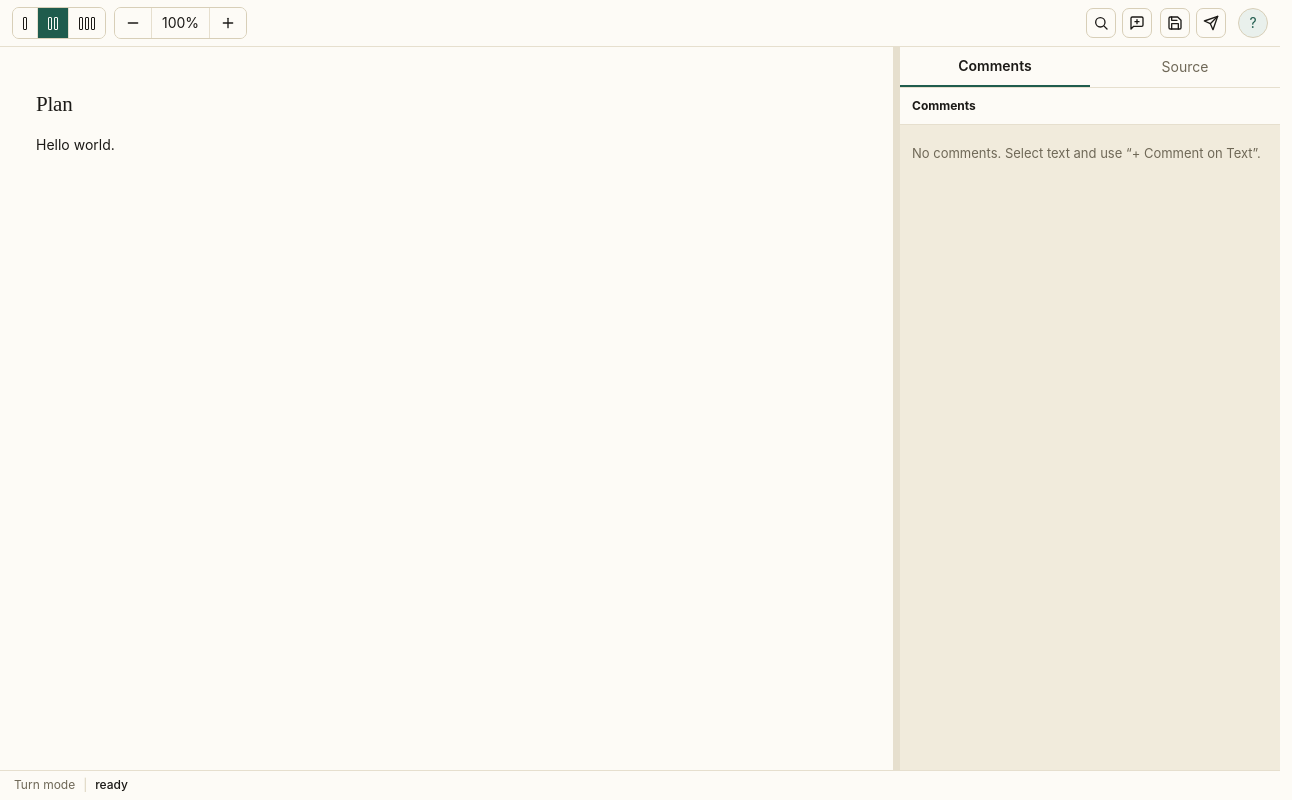
App preview context menu (item 3) › 'Comment on Doc' opens the composer and closes the menu
Right-click the element with class "ap-rendered": (54,104) [36, 92, 115, 153]
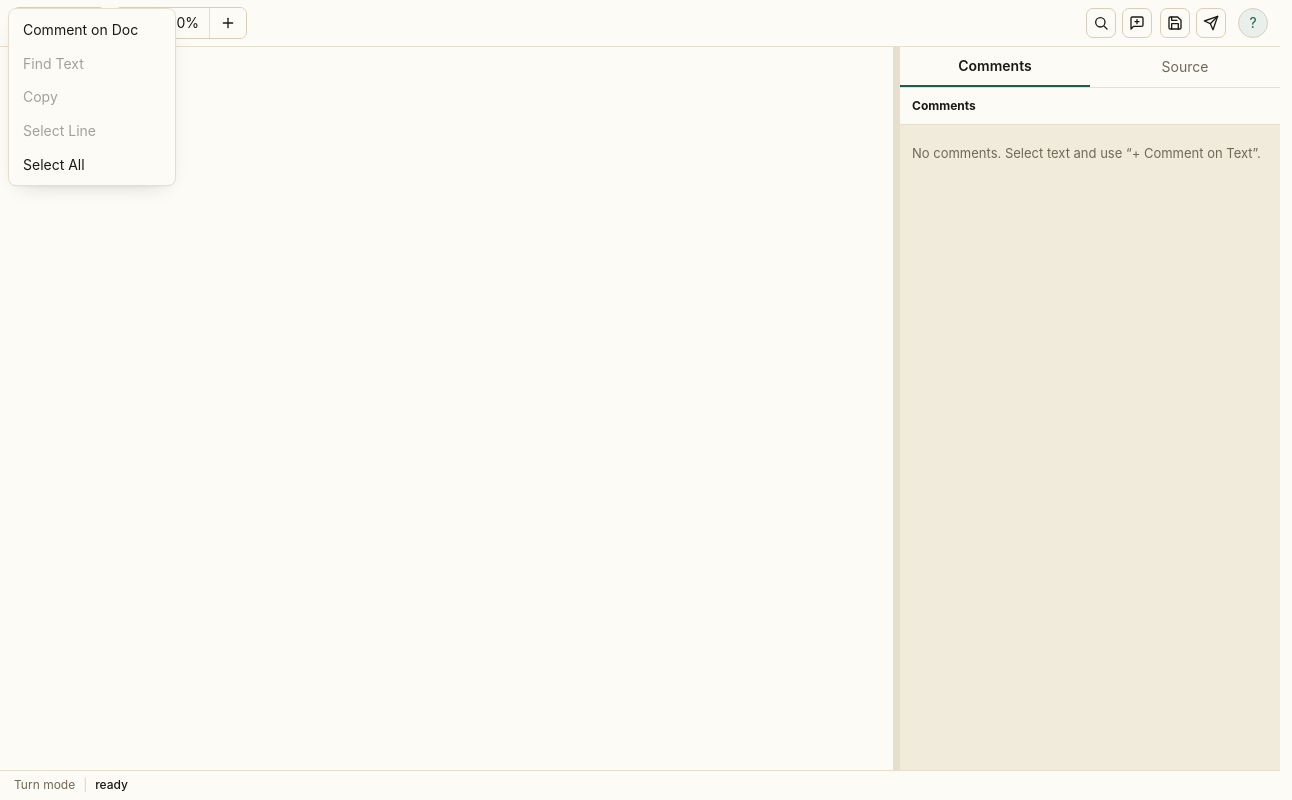
Click the menu item "Comment on Doc": (92,30) [13, 13, 171, 47]
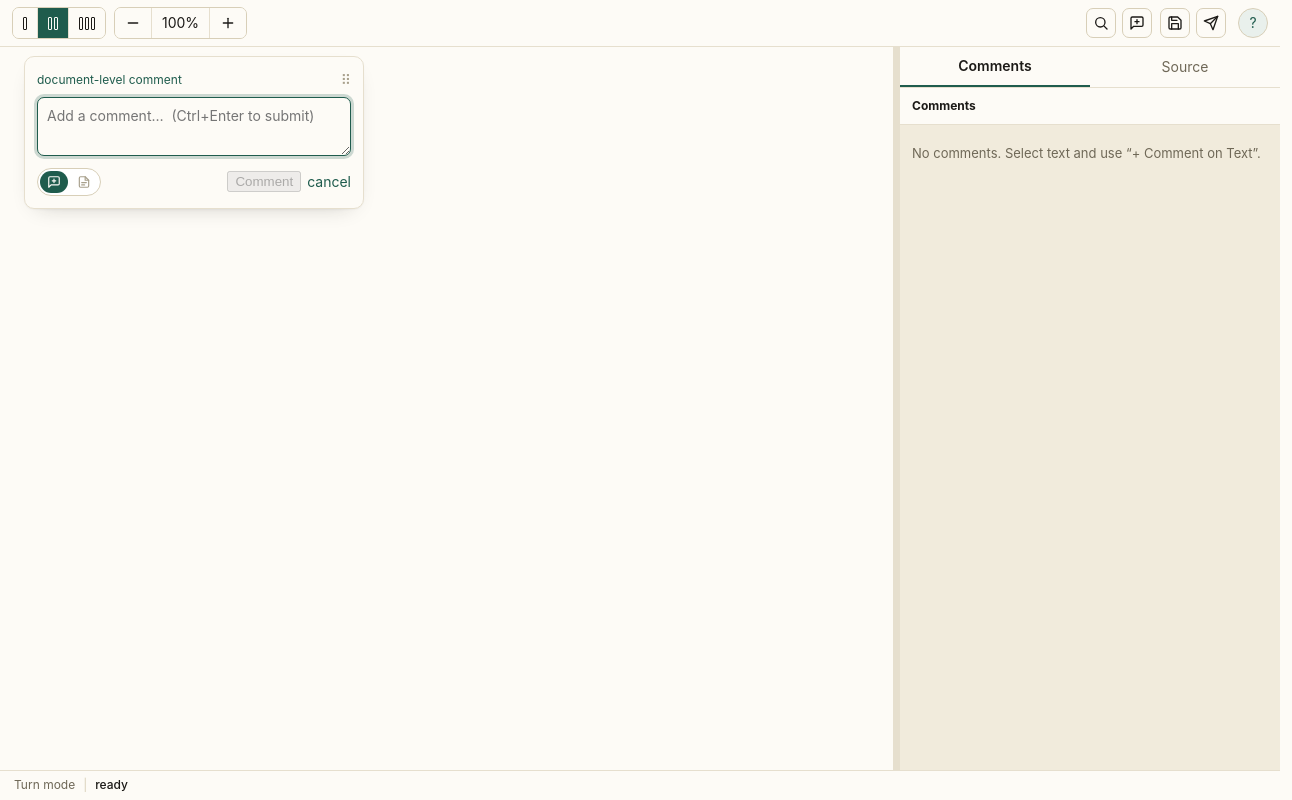
Expected: the dropdown with placeholder "Add a comment… (Ctrl+Enter to submit)" is shown, [37, 97, 351, 156]
Expected: the menu item "Comment on Doc" is gone
